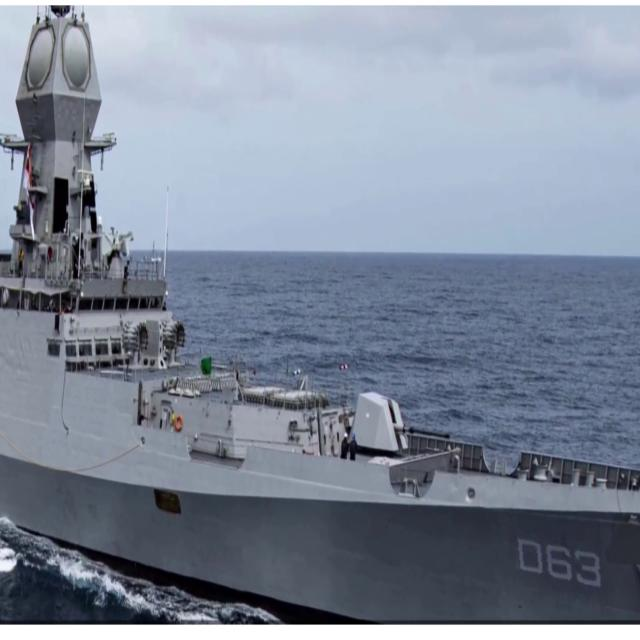OCR: (510, 528, 602, 591)
